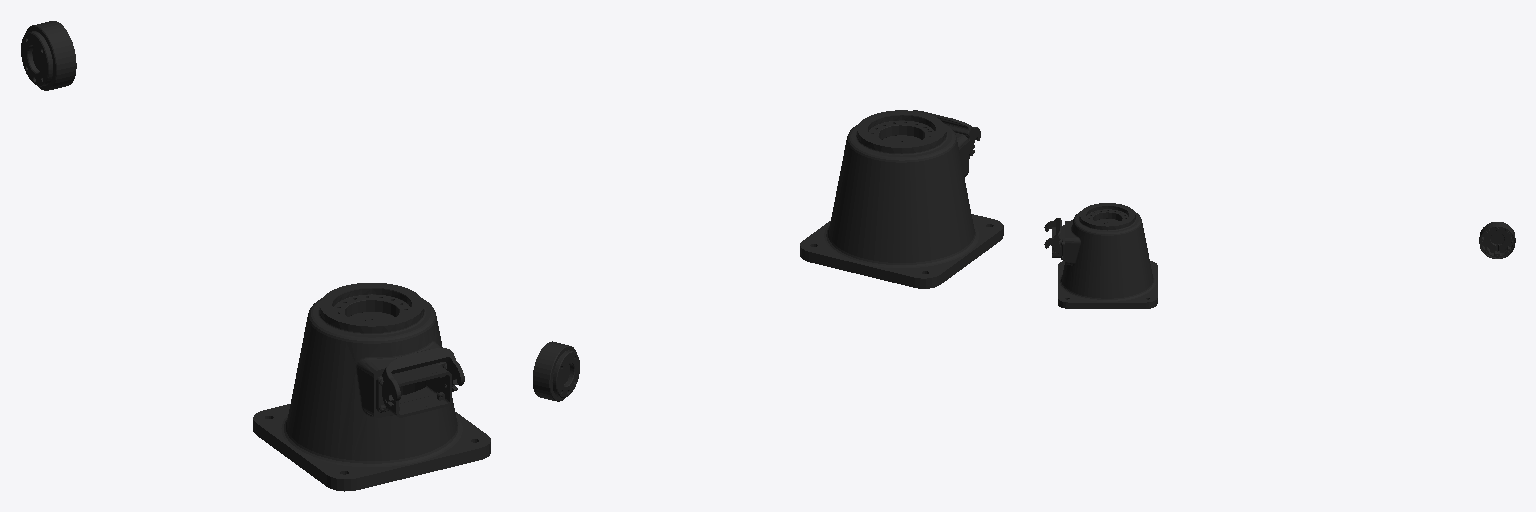
robot.urdf — es_description:
<robot name="es_description">

    <link name="world"/>
    <joint name="es5_joint_world" type="fixed">
        <parent link="world"/>
        <child link="sl_base"/>
        <origin rpy="0 0 0" xyz="0 0 0.01"/>
    </joint>


    <link name="sl_base">
        <visual>
            <origin xyz="0 0 0" rpy="0 0 0" />
            <geometry>
                <mesh filename="package://es5_description/meshes/sl_base.STL" />
            </geometry>
            <material name="">
                <color rgba="0.2 0.2 0.2 1" />
            </material>
        </visual>
        <collision>
            <origin xyz="0 0 0" rpy="0 0 0" />
            <geometry>
                <mesh filename="package://es5_description/meshes/sl_base.STL" />
            </geometry>
        </collision>
        <inertial>
            <mass value="0.1" />
            <origin xyz="0 0 0" rpy="0 0 0" />
            <inertia ixx="0.03" iyy="0.03" izz="0.03" ixy="0.0" ixz="0.0" iyz="0.0" />
        </inertial>
    </link>
    <link name="sl_1">
        <inertial>
            <origin xyz="-0.013237 -0.00054619 -0.014982" rpy="0 0 0" />
            <mass value="1.7688" />
            <inertia ixx="0.0016473" ixy="-1.3712E-05" ixz="0.00016089" iyy="0.0019378" iyz="2.4347E-05" izz="0.00036119" />
        </inertial>
        <visual>
            <origin xyz="0 0 0" rpy="0 0 0" />
            <geometry>
                <mesh filename="package://es5_description/meshes/sl_1.STL" />
            </geometry>
            <material name="">
                <color rgba="0.2 0.2 0.2 1" />
            </material>
        </visual>
        <collision>
            <origin xyz="0 0 0" rpy="0 0 0" />
            <geometry>
                <mesh filename="package://es5_description/meshes/sl_1.STL" />
            </geometry>
        </collision>
    </link>
    <joint name="ESJoint1" type="revolute">
        <origin xyz="0 0 0.236" rpy="0 0 3.1417" />
        <parent link="sl_base" />
        <child link="sl_1" />
        <axis xyz="0 0 1" />
        <limit lower="-6.28" upper="6.28" effort="50" velocity="5" />
    </joint>
    <link name="sl_2">
        <inertial>
            <origin xyz="0.015424 -9.646E-12 0.2125" rpy="0 0 0" />
            <mass value="6.7544" />
            <inertia ixx="0.19271" ixy="-1.9923E-12" ixz="2.1848E-10" iyy="0.19871" iyz="0.00035188" izz="0.0061413" />
        </inertial>
        <visual>
            <origin xyz="0 0 0" rpy="0 0 0" />
            <geometry>
                <mesh filename="package://es5_description/meshes/sl_2.STL" />
            </geometry>
            <material name="">
                <color rgba="0.2 0.2 0.2 1" />
            </material>
        </visual>
        <collision>
            <origin xyz="0 0 0" rpy="0 0 0" />
            <geometry>
                <mesh filename="package://es5_description/meshes/sl_2.STL" />
            </geometry>
        </collision>
    </link>
    <joint name="ESJoint2" type="revolute">
        <origin xyz="-0.147 0 0" rpy="1.57 1.2147E-16 4.8192E-33" />
        <parent link="sl_1" />
        <child link="sl_2" />
        <axis xyz="-1 0 0" />
        <limit lower="-6.28" upper="6.28" effort="50" velocity="5" />
    </joint>
    <link name="sl_3">
        <inertial>
            <origin xyz="-0.0091923 1.7292E-06 0.20596" rpy="0 0 0" />
            <mass value="2.3481" />
            <inertia ixx="0.047889" ixy="2.6294E-06" ixz="-0.00099127" iyy="0.04871" iyz="4.612E-05" izz="0.00084808" />
        </inertial>
        <visual>
            <origin xyz="0 0 0" rpy="0 0 0" />
            <geometry>
                <mesh filename="package://es5_description/meshes/sl_3.STL" />
            </geometry>
            <material name="">
                <color rgba="0.2 0.2 0.2 1" />
            </material>
        </visual>
        <collision>
            <origin xyz="0 0 0" rpy="0 0 0" />
            <geometry>
                <mesh filename="package://es5_description/meshes/sl_3.STL" />
            </geometry>
        </collision>
    </link>
    <joint name="ESJoint3" type="revolute">
        <origin xyz="0.1375 0 0.425" rpy="1.6918E-15 2.2204E-16 2.9582E-31" />
        <parent link="sl_2" />
        <child link="sl_3" />
        <axis xyz="-1 0 0" />
        <limit lower="-6.28" upper="6.28" effort="50" velocity="5" />
    </joint>
    <link name="sl_4">
        <inertial>
            <origin xyz="0.0036399 0.00019977 0.014282" rpy="0 0 0" />
            <mass value="0.56883" />
            <inertia ixx="0.00061834" ixy="2.969E-06" ixz="3.2084E-05" iyy="0.00064057" iyz="1.6935E-06" izz="4.0818E-05" />
        </inertial>
        <visual>
            <origin xyz="0 0 0" rpy="0 0 0" />
            <geometry>
                <mesh filename="package://es5_description/meshes/sl_4.STL" />
            </geometry>
            <material name="">
                <color rgba="0.2 0.2 0.2 1" />
            </material>
        </visual>
        <collision>
            <origin xyz="0 0 0" rpy="0 0 0" />
            <geometry>
                <mesh filename="package://es5_description/meshes/sl_4.STL" />
            </geometry>
        </collision>
    </link>
    <joint name="ESJoint4" type="revolute">
        <origin xyz="-0.101 0 0.395" rpy="1.57 -5.388E-16 1.9374E-31" />
        <parent link="sl_3" />
        <child link="sl_4" />
        <axis xyz="-1 0 0" />
        <limit lower="-6.28" upper="6.28" effort="50" velocity="5" />
    </joint>
    <link name="sl_5">
        <inertial>
            <origin xyz="-0.014282 -0.00019977 -0.0036399" rpy="0 0 0" />
            <mass value="0.56883" />
            <inertia ixx="4.0818E-05" ixy="1.6935E-06" ixz="3.2084E-05" iyy="0.00064057" iyz="2.969E-06" izz="0.00061834" />
        </inertial>
        <visual>
            <origin xyz="0 0 0" rpy="0 0 0" />
            <geometry>
                <mesh filename="package://es5_description/meshes/sl_5.STL" />
            </geometry>
            <material name="">
                <color rgba="0.2 0.2 0.2 1" />
            </material>
        </visual>
        <collision>
            <origin xyz="0 0 0" rpy="0 0 0" />
            <geometry>
                <mesh filename="package://es5_description/meshes/sl_5.STL" />
            </geometry>
        </collision>
    </link>
    <joint name="ESJoint5" type="revolute">
        <origin xyz="0 0 0.101" rpy="0 0 3.1417" />
        <parent link="sl_4" />
        <child link="sl_5" />
        <axis xyz="0 0 1" />
        <limit lower="-6.28" upper="6.28" effort="50" velocity="5" />
    </joint>
    <link name="sl_6">
        <inertial>
            <origin xyz="-0.064015 7.6673E-07 -0.00019082" rpy="0 0 0" />
            <mass value="0.17537" />
            <inertia ixx="1.3436E-06" ixy="1.5557E-11" ixz="-3.8717E-09" iyy="9.8324E-07" iyz="1.9341E-13" izz="9.8319E-07" />
        </inertial>
        <visual>
            <origin xyz="0 0 0" rpy="0 0 0" />
            <geometry>
                <mesh filename="package://es5_description/meshes/sl_6.STL" />
            </geometry>
            <material name="">
                <color rgba="0.2 0.2 0.2 1" />
            </material>
        </visual>
        <collision>
            <origin xyz="0 0 0" rpy="0 0 0" />
            <geometry>
                <mesh filename="package://es5_description/meshes/sl_6.STL" />
            </geometry>
        </collision>
    </link>
    <joint name="ESJoint6" type="revolute">
        <origin xyz="0 0 0" rpy="0 0 0" />
        <parent link="sl_5" />
        <child link="sl_6" />
        <axis xyz="1 0 0" />
        <limit lower="-6.28" upper="6.28" effort="50" velocity="5" />
    </joint>
    <transmission name="trans_ESJoint1">
        <type>transmission_interface/SimpleTransmission</type>
        <joint name="ESJoint1">
            <hardwareInterface>hardware_interface/PositionJointInterface</hardwareInterface>
        </joint>
        <actuator name="ESJoint1_motor">
            <hardwareInterface>hardware_interface/PositionJointInterface</hardwareInterface>
            <mechanicalReduction>1</mechanicalReduction>
        </actuator>
    </transmission>
    <transmission name="trans_ESJoint2">
        <type>transmission_interface/SimpleTransmission</type>
        <joint name="ESJoint2">
            <hardwareInterface>hardware_interface/PositionJointInterface</hardwareInterface>
        </joint>
        <actuator name="ESJoint2_motor">
            <hardwareInterface>hardware_interface/PositionJointInterface</hardwareInterface>
            <mechanicalReduction>1</mechanicalReduction>
        </actuator>
    </transmission>
    <transmission name="trans_ESJoint3">
        <type>transmission_interface/SimpleTransmission</type>
        <joint name="ESJoint3">
            <hardwareInterface>hardware_interface/PositionJointInterface</hardwareInterface>
        </joint>
        <actuator name="ESJoint3_motor">
            <hardwareInterface>hardware_interface/PositionJointInterface</hardwareInterface>
            <mechanicalReduction>1</mechanicalReduction>
        </actuator>
    </transmission>
    <transmission name="trans_ESJoint4">
        <type>transmission_interface/SimpleTransmission</type>
        <joint name="ESJoint4">
            <hardwareInterface>hardware_interface/PositionJointInterface</hardwareInterface>
        </joint>
        <actuator name="ESJoint4_motor">
            <hardwareInterface>hardware_interface/PositionJointInterface</hardwareInterface>
            <mechanicalReduction>1</mechanicalReduction>
        </actuator>
    </transmission>
    <transmission name="trans_ESJoint5">
        <type>transmission_interface/SimpleTransmission</type>
        <joint name="ESJoint5">
            <hardwareInterface>hardware_interface/PositionJointInterface</hardwareInterface>
        </joint>
        <actuator name="ESJoint5_motor">
            <hardwareInterface>hardware_interface/PositionJointInterface</hardwareInterface>
            <mechanicalReduction>1</mechanicalReduction>
        </actuator>
    </transmission>
    <transmission name="trans_ESJoint6">
        <type>transmission_interface/SimpleTransmission</type>
        <joint name="ESJoint6">
            <hardwareInterface>hardware_interface/PositionJointInterface</hardwareInterface>
        </joint>
        <actuator name="ESJoint6_motor">
            <hardwareInterface>hardware_interface/PositionJointInterface</hardwareInterface>
            <mechanicalReduction>1</mechanicalReduction>
        </actuator>
    </transmission>
    <gazebo>
        <plugin name="gazebo_ros_control" filename="libgazebo_ros_control.so">
            <robotNamespace>/</robotNamespace>
        </plugin>
    </gazebo>
</robot>

--- Facts derived from the render (not from the file) ---
Views: 3 orthographic renders of the robot side by side, from view 1: azimuth 30°, elevation 25°; view 2: azimuth 150°, elevation 25°; view 3: azimuth 270°, elevation 25°.
Model es_description with 8 links and 7 joints (6 revolute, 1 fixed), rooted at world, posed all joints at 0.
Visible links, largest first — view 1: sl_base, sl_6; view 2: sl_base, sl_6; view 3: sl_base, sl_6.
Link boxes in pixels (x1=…): sl_base: x1=253, y1=283, x2=490, y2=491; sl_6: x1=21, y1=21, x2=76, y2=90; sl_base: x1=800, y1=110, x2=1003, y2=288; sl_6: x1=533, y1=341, x2=579, y2=401; sl_base: x1=1044, y1=203, x2=1157, y2=308; sl_6: x1=1479, y1=222, x2=1515, y2=258.
Size in the robot's own frame: 0.21 by 0.9911 by 0.1735 metres.
2 mesh visuals loaded from 7 distinct referenced files (2 binary STL); not drawn: 5 (reference not matched to a file when rendering).